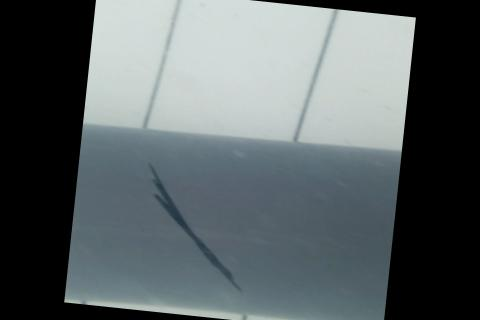keretakan: (134, 161, 258, 294)
